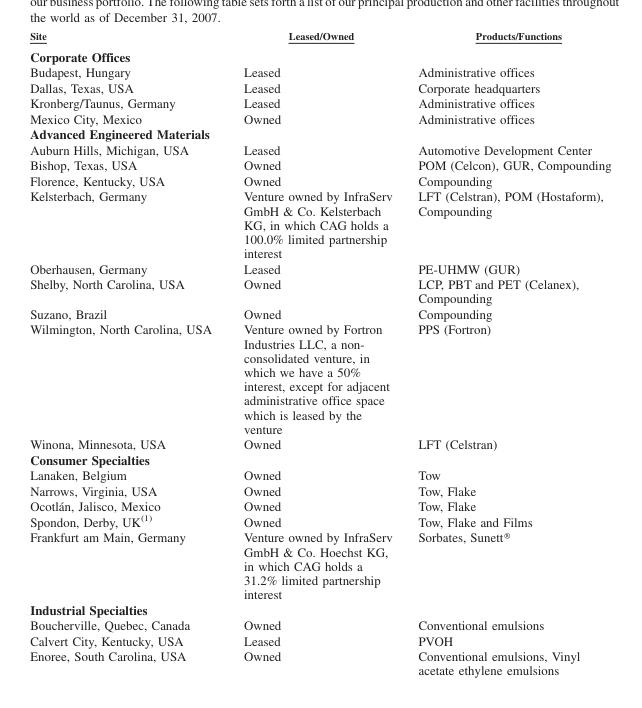table: (29, 29, 610, 677)
table column: (404, 29, 610, 677), (29, 29, 226, 677), (226, 29, 404, 677)
table column header: (29, 29, 610, 44)
table projected row header: (29, 44, 610, 64), (29, 125, 610, 141), (29, 451, 610, 467), (29, 601, 610, 617)
table row: (29, 321, 610, 436), (29, 188, 610, 260), (29, 529, 610, 601), (29, 276, 610, 305), (29, 648, 610, 677), (29, 44, 610, 64), (29, 512, 610, 529), (29, 79, 610, 95), (29, 125, 610, 141), (29, 141, 610, 157), (29, 172, 610, 188), (29, 260, 610, 276), (29, 305, 610, 321), (29, 451, 610, 467), (29, 482, 610, 498), (29, 601, 610, 617), (29, 632, 610, 648), (29, 29, 610, 44), (29, 64, 610, 79), (29, 95, 610, 110), (29, 110, 610, 125), (29, 157, 610, 172), (29, 436, 610, 451), (29, 467, 610, 482), (29, 617, 610, 632), (29, 498, 610, 512)
